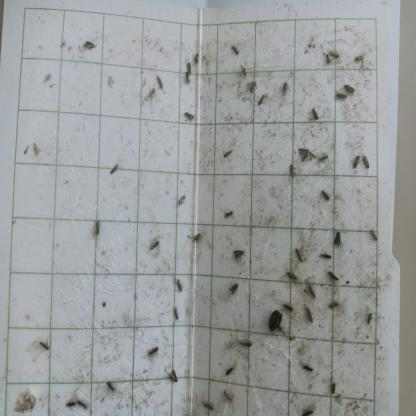prays_oleae: (33, 334, 58, 362), (214, 198, 236, 228), (104, 153, 122, 187), (232, 239, 252, 266), (300, 354, 318, 382), (88, 214, 104, 244), (176, 184, 191, 215), (296, 141, 318, 162), (234, 336, 255, 356), (284, 266, 302, 289), (309, 98, 323, 127), (278, 77, 294, 102), (328, 41, 344, 66), (226, 33, 241, 59), (183, 104, 199, 128), (78, 36, 98, 55), (166, 363, 181, 388), (218, 143, 234, 166), (169, 302, 184, 326), (154, 73, 170, 95), (219, 362, 238, 380), (351, 48, 365, 72), (328, 296, 344, 317), (327, 268, 342, 290), (298, 398, 317, 415), (317, 248, 336, 264), (147, 235, 161, 256), (288, 159, 300, 182), (362, 149, 373, 174), (104, 378, 120, 395), (175, 275, 187, 297), (334, 87, 350, 103), (77, 395, 92, 412), (334, 225, 345, 248), (320, 185, 334, 203), (305, 306, 317, 327), (283, 297, 296, 316), (146, 82, 157, 104), (247, 74, 258, 96), (296, 244, 308, 264), (368, 225, 381, 243), (197, 398, 215, 411), (321, 50, 332, 71), (329, 378, 340, 399), (318, 148, 330, 167), (188, 233, 205, 246), (307, 283, 318, 303), (150, 340, 160, 362), (256, 93, 270, 108), (237, 66, 251, 81), (231, 280, 242, 299), (345, 79, 356, 97), (66, 397, 80, 410), (220, 390, 235, 402), (352, 157, 362, 174), (367, 310, 375, 329), (186, 56, 192, 76), (184, 71, 191, 87)
